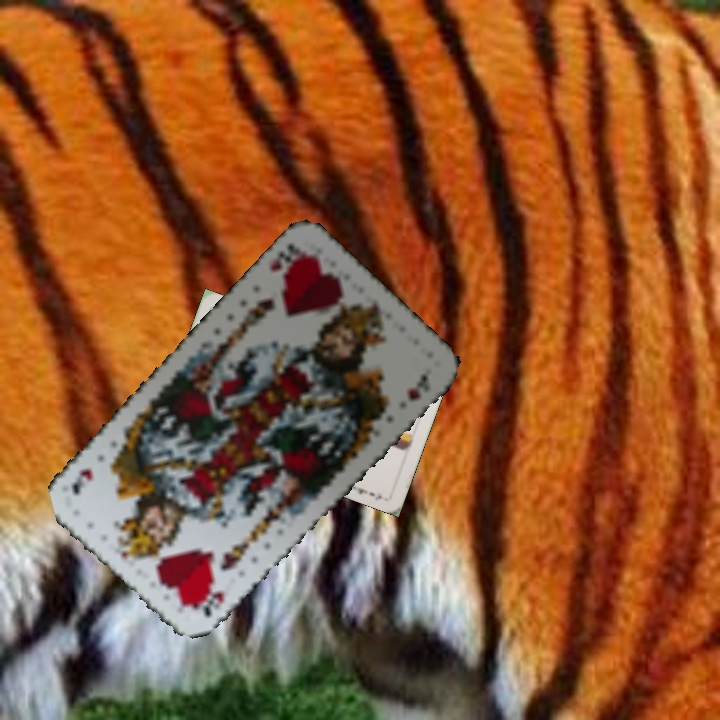HK: (264, 238, 305, 281), (199, 586, 227, 621)
